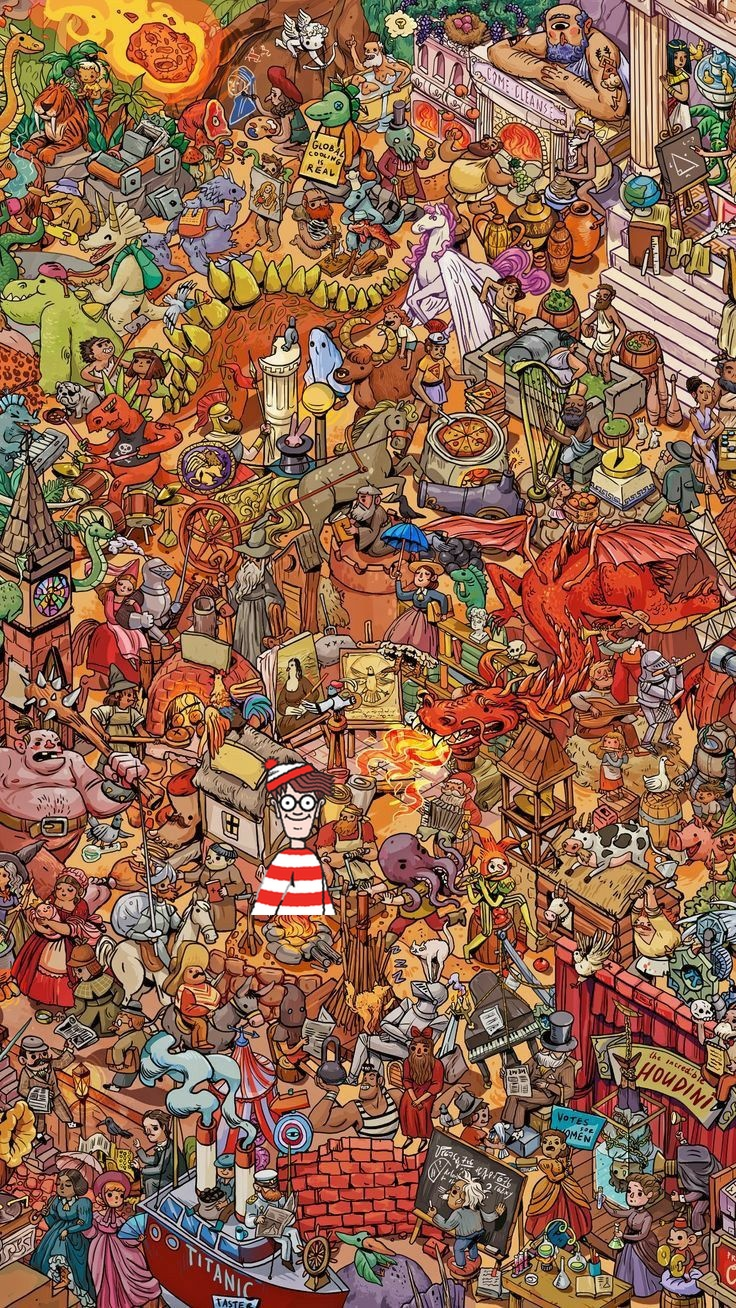waldo: (250, 756, 337, 915)
